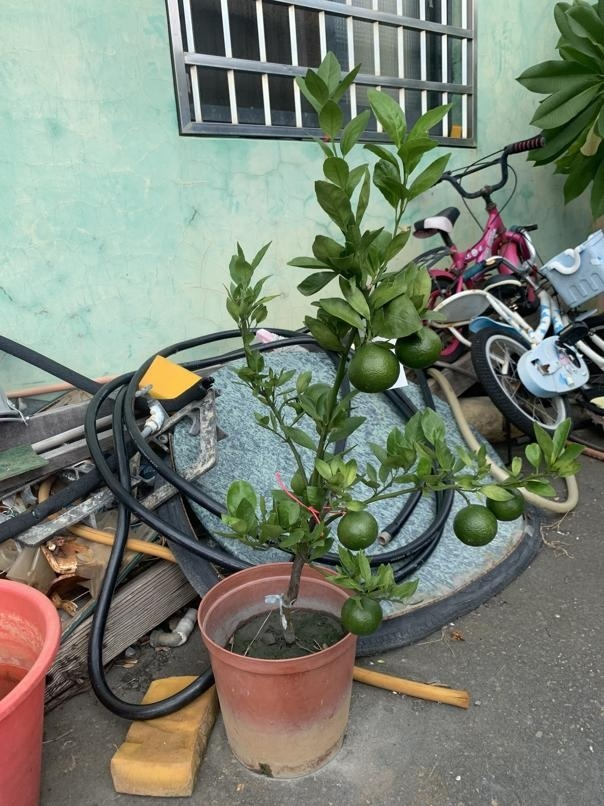Tangerine: (344, 340, 401, 395), (332, 508, 381, 554), (452, 501, 497, 547), (339, 593, 386, 635), (398, 326, 443, 368)
